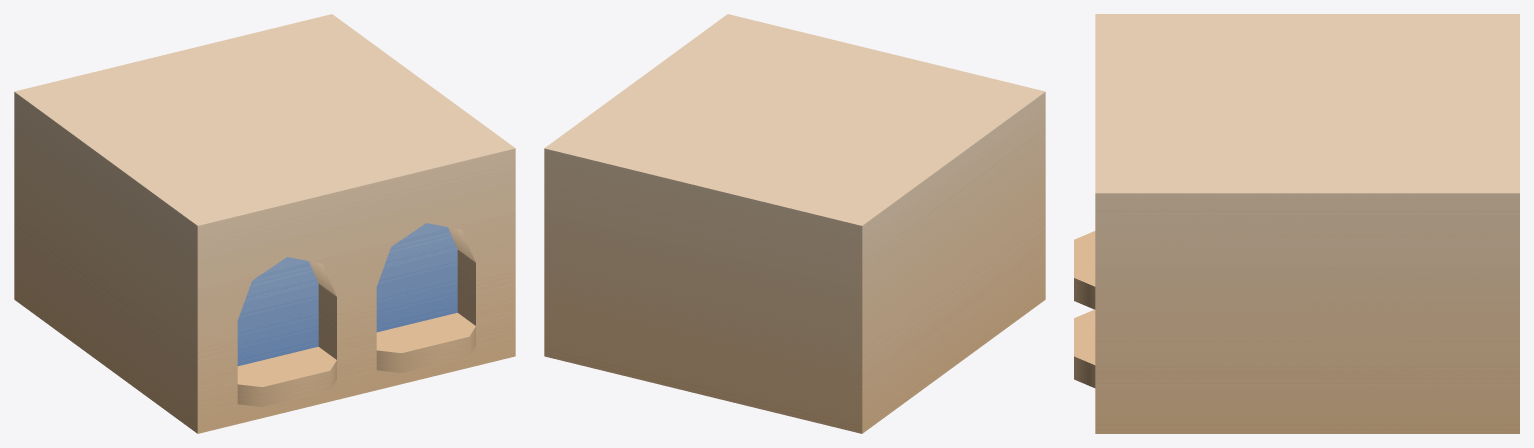
Rendered from building-windows-sills-round.glb.
3 views of the same model, side by side, from view 1: azimuth 30°, elevation 25°; view 2: azimuth 150°, elevation 25°; view 3: azimuth 270°, elevation 25° (orthographic). The views are drawn at different scales.
Visible parts, largest first — view 1: building-windows-sills-round; view 2: building-windows-sills-round; view 3: building-windows-sills-round.
Boxes of the visible parts, <box> form: building-windows-sills-round: <box>14,14,515,433</box>; building-windows-sills-round: <box>544,14,1045,433</box>; building-windows-sills-round: <box>1074,14,1519,433</box>.
Bounding box in the file's own units: 1 × 0.625 × 1.05.
1 material, 1 textured.
